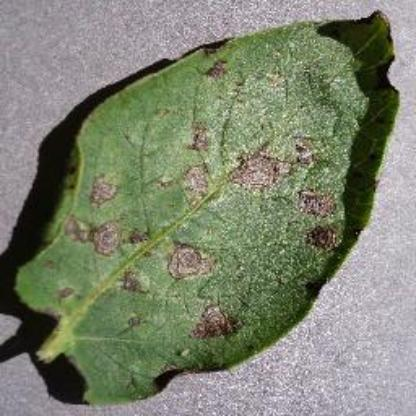Early-Blight: (12, 6, 416, 414)
